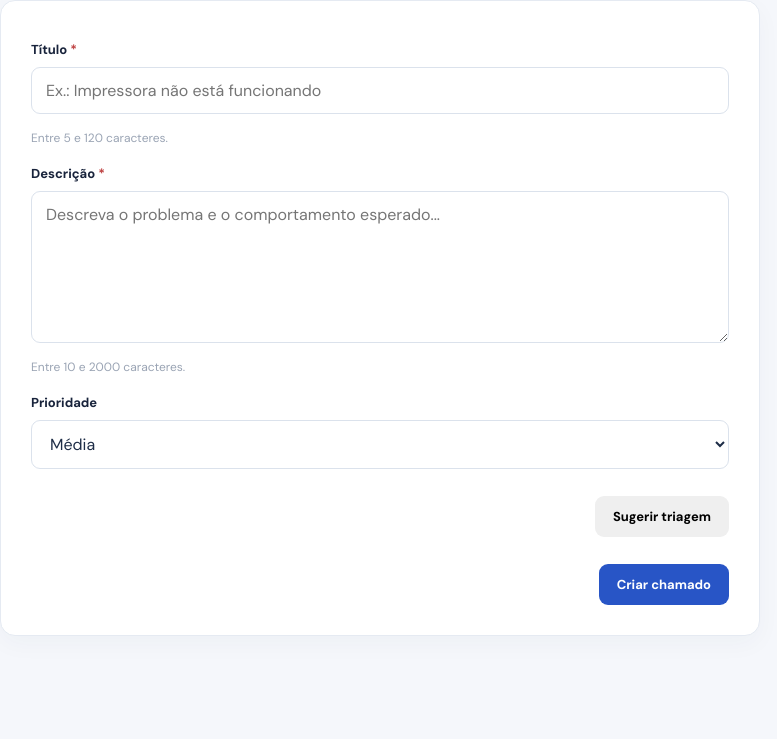
Test: TicketForm — triagem simulada › não consulta API com texto insuficiente
Click the button "Sugerir triagem": click(662, 516) [595,496,729,537]
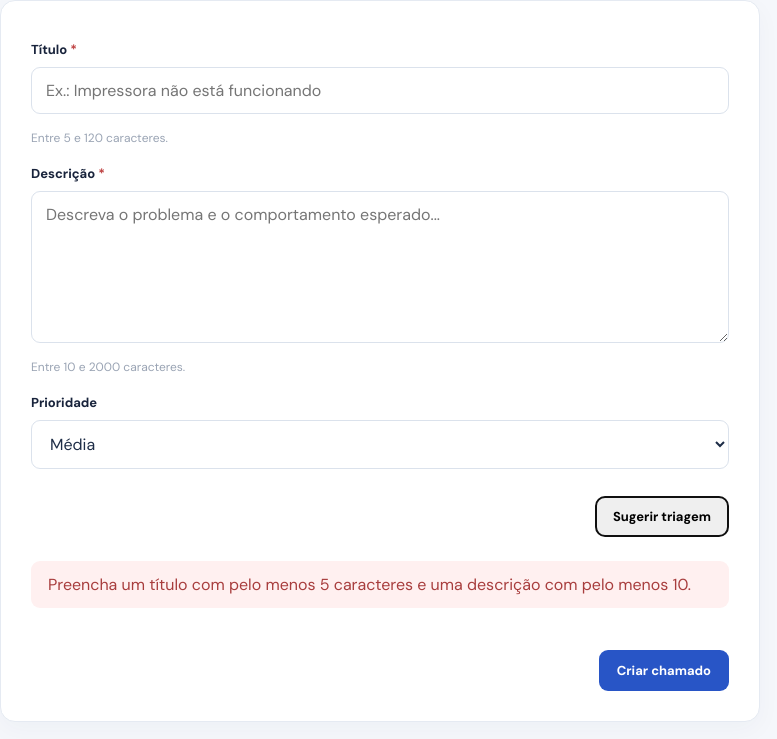
Expected: the message shows "Preencha um título", [48,574,691,595]
